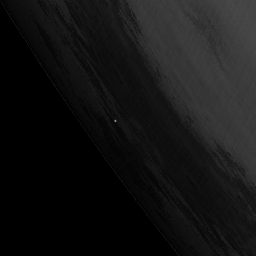Target: (113, 119, 118, 123)
